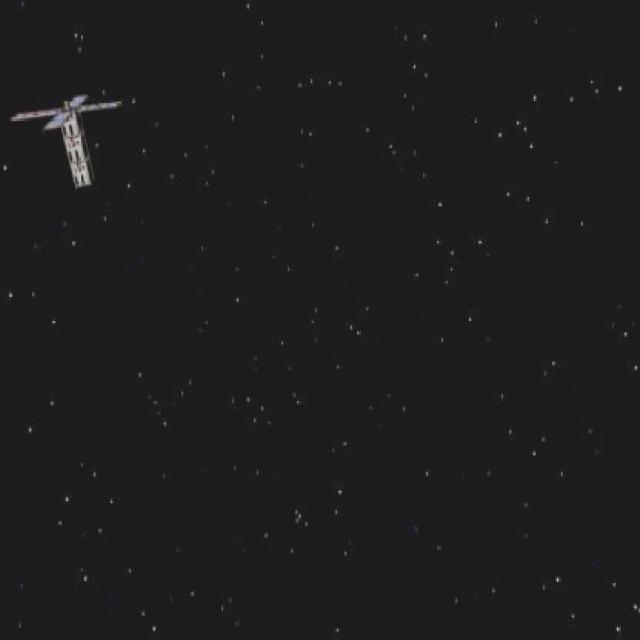satellite: (15, 79, 138, 186)
